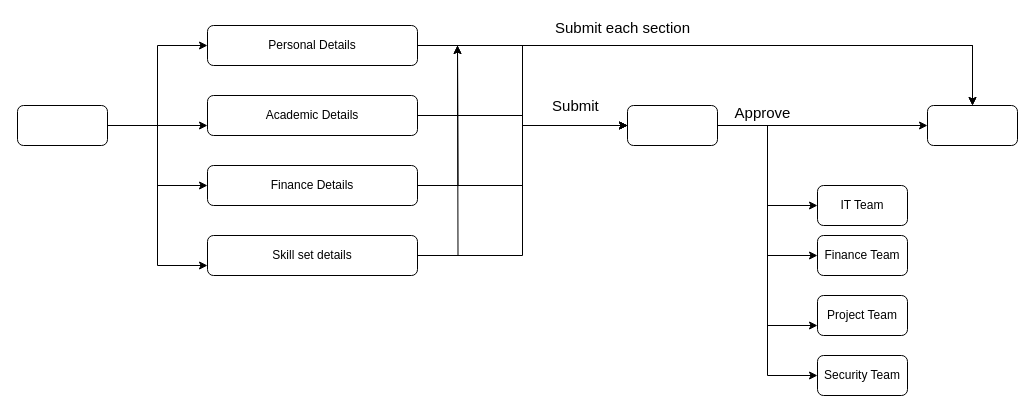
Image size: 1035x413. Some labels were removed from this diagram. The centre of each missing label's shape, as x and y in pixels:
Database: (972,125)
End User: (62,125)
HR Verification: (672,125)
